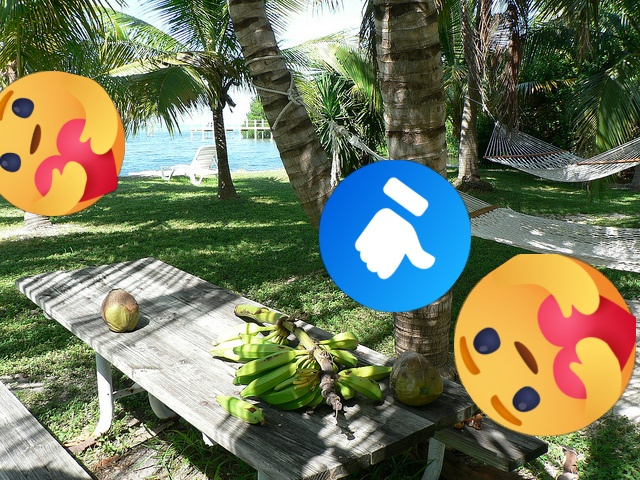care: (454, 254, 636, 436), (0, 71, 125, 216)
like: (319, 160, 471, 312)
